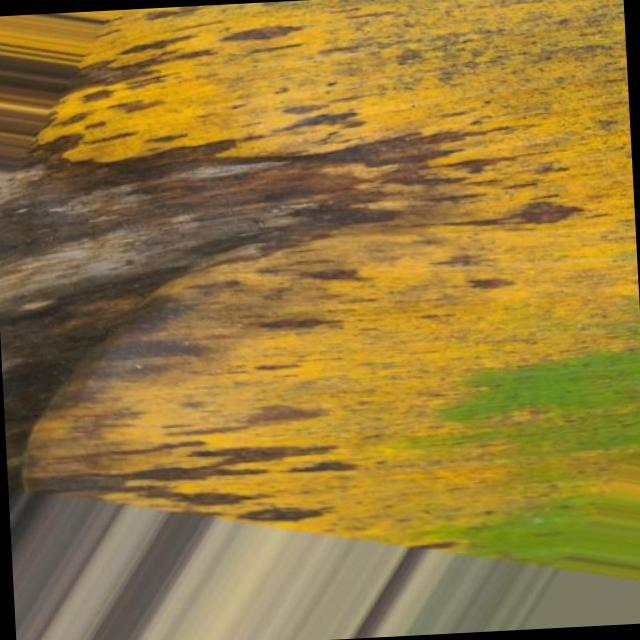Banana_Black_Sigatoka: (0, 85, 585, 517)
